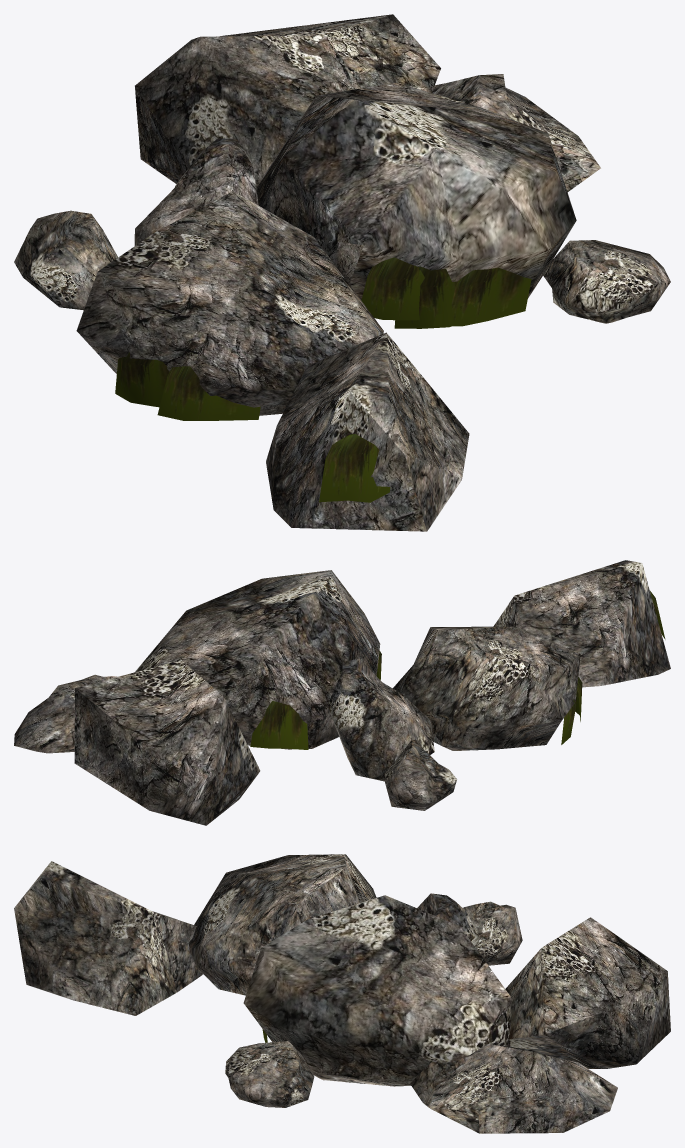
The model's file is pir_m_prp_dvj_rockGroup_e.fbx.
3 views of the same model, one above another, from view 1: azimuth 30°, elevation 25°; view 2: azimuth 150°, elevation 25°; view 3: azimuth 270°, elevation 25° (orthographic). The views are drawn at different scales.
Parts seen in each view (by area): view 1: rock_2, rock_3, rock_7, rock_0, rock_6, rock_5, rock_1, rock_4, seaweed, seaweed2, seaweed3, seaweed1 (+2 smaller); view 2: rock_2, rock_7, rock_3, rock_0, rock_1, rock_5, rock_4, seaweed5; view 3: rock_2, rock_0, rock_7, rock_3, rock_4, rock_6, rock_5, rock_1.
Boxes of the visible parts, x1,y1,x2,y2 form: rock_2: (256,83,576,300); rock_3: (76,191,383,415); rock_7: (135,14,440,186); rock_0: (266,332,469,531); rock_6: (542,240,670,323); rock_5: (14,210,117,310); rock_1: (134,138,258,245); rock_4: (432,74,600,192); seaweed: (433,267,531,326); seaweed2: (319,434,390,502); seaweed3: (157,366,260,420); seaweed1: (361,257,424,320); rock_2: (135,570,380,749); rock_7: (74,660,260,825); rock_3: (393,626,580,750); rock_0: (493,560,670,687); rock_1: (327,658,434,781); rock_5: (383,740,456,810); rock_4: (14,674,117,753); seaweed5: (250,701,308,749); rock_2: (243,895,510,1086); rock_0: (14,861,203,1015); rock_7: (505,917,670,1068); rock_3: (188,854,376,995); rock_4: (410,1044,617,1133); rock_6: (225,1041,314,1107); rock_5: (463,901,522,965); rock_1: (417,893,479,949).
Bounding box in the file's own units: 3626 × 1191 × 4623.
2 materials, 2 textured.
